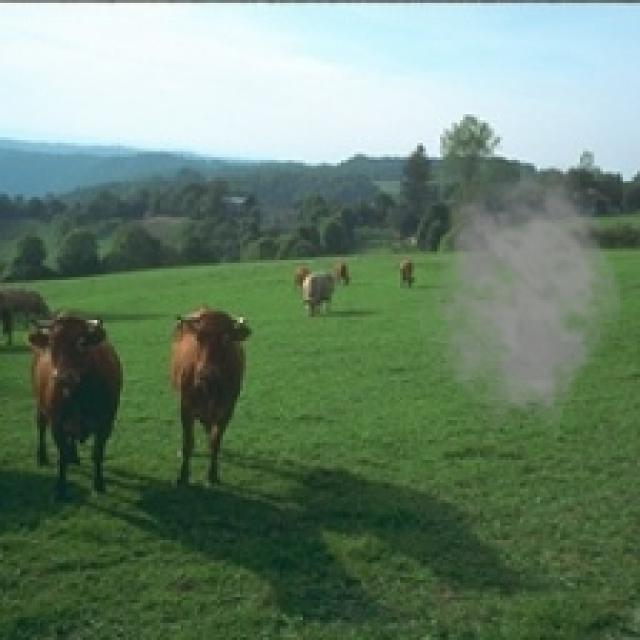Smoke: (414, 163, 623, 440)
